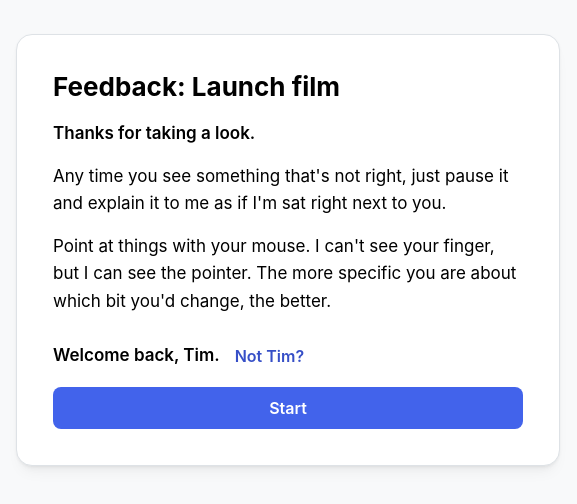
Welcome › lets someone else in the same browser give their own name
The image size is (577, 504).
Later steps or results of the test are not shown.
Step 1. Click the button with test id "not-me" → (269, 356), box x1=224 y1=341 x2=315 y2=371
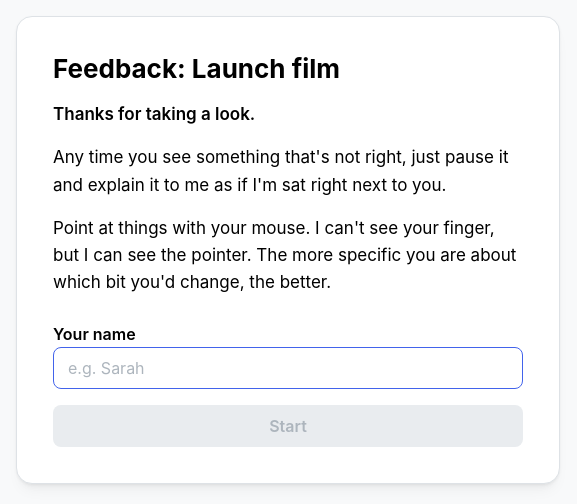
Expected: the element with test id "welcome-back" is gone
Expected: the button with test id "start-button" is disabled, x1=53 y1=405 x2=523 y2=447
